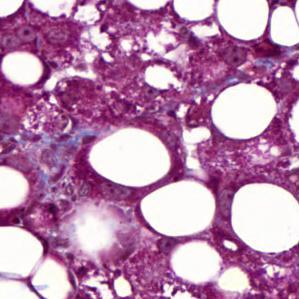steatosis: (89, 125, 171, 189), (231, 182, 299, 252), (211, 83, 277, 141), (0, 48, 49, 89)
